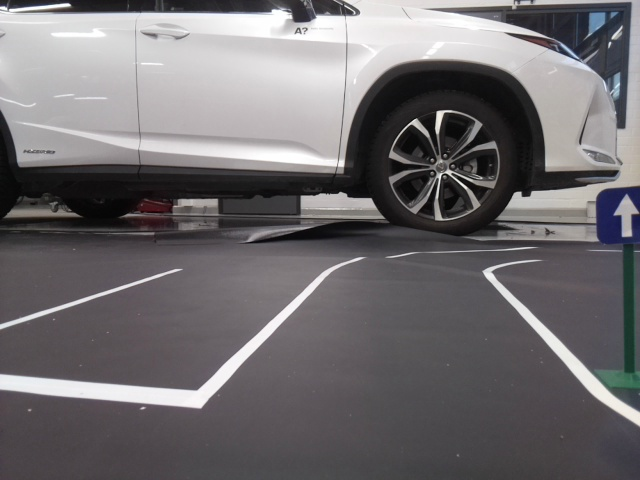OneWay: (598, 186, 639, 240)
